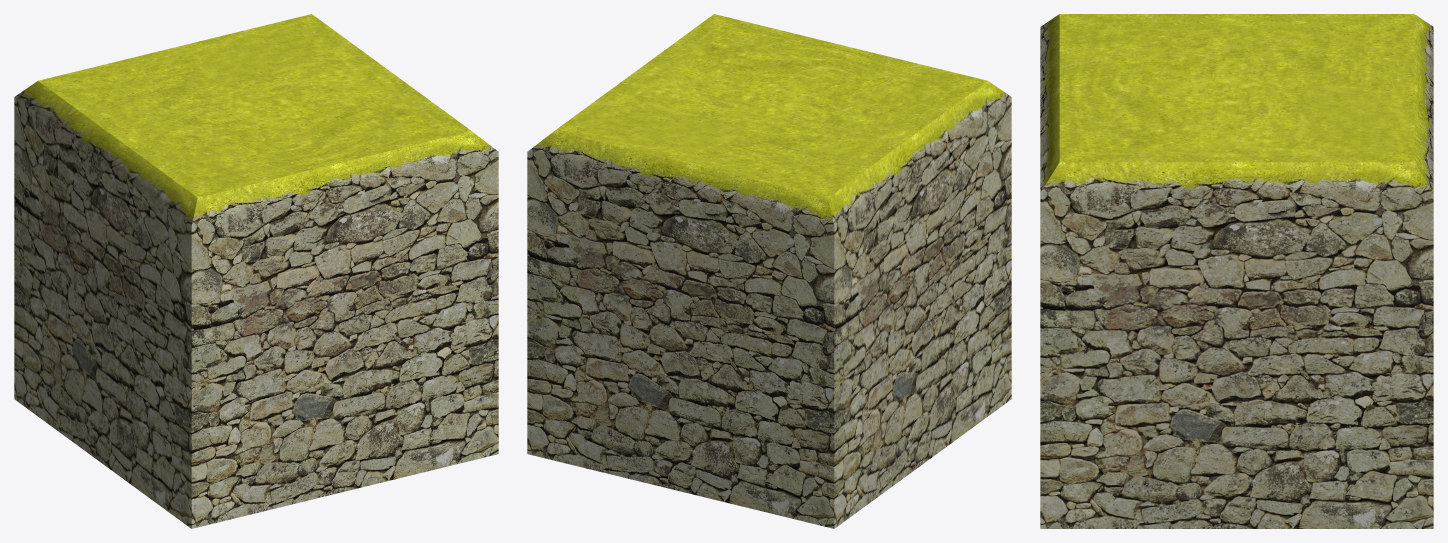
File: Big_Rock_Wall_StandAlone_01.fbx
3 views of the same model, side by side, from view 1: azimuth 30°, elevation 25°; view 2: azimuth 150°, elevation 25°; view 3: azimuth 270°, elevation 25° (orthographic). The views are drawn at different scales.
Parts seen in each view (by area): view 1: bigCubeReference_polySurface4; view 2: bigCubeReference_polySurface4; view 3: bigCubeReference_polySurface4.
Boxes of the visible parts, left/top/right/bottom form: bigCubeReference_polySurface4: left=14, top=14, right=498, bottom=528; bigCubeReference_polySurface4: left=527, top=14, right=1011, bottom=528; bigCubeReference_polySurface4: left=1040, top=14, right=1433, bottom=528.
Size of the model in its own units: 9.77 by 9.77 by 9.77.
1 material, 1 textured.
